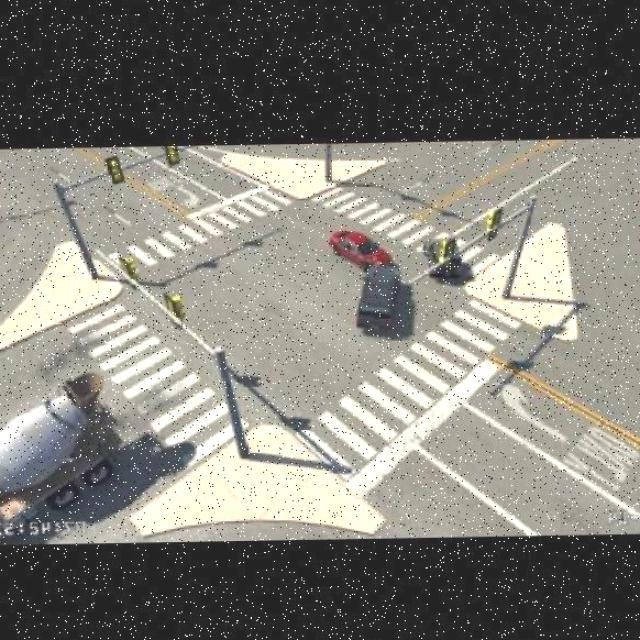accident: (324, 227, 409, 344)
